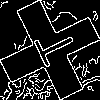T: (25, 25, 79, 73)
